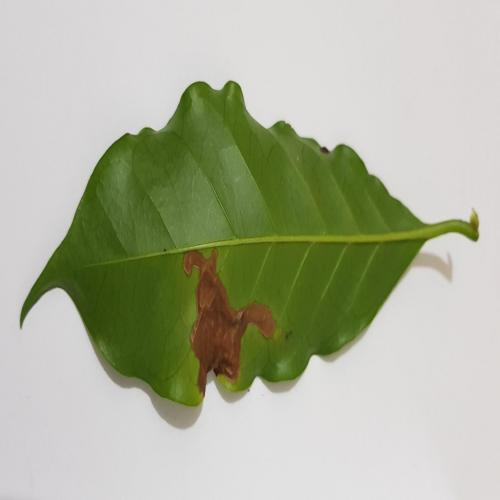leaf: (183, 250, 275, 394)
